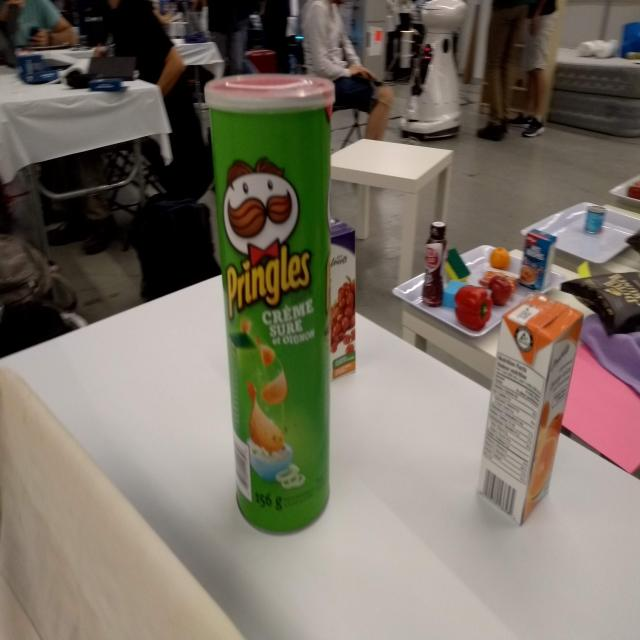cereal: (518, 227, 560, 292)
chocolate_drink: (421, 220, 452, 310)
orange: (489, 245, 511, 272)
orange_juice: (480, 289, 586, 530)
paprika: (454, 282, 493, 335)
pringles: (202, 66, 338, 538)
sausages: (582, 203, 610, 238)
scrubby: (444, 246, 472, 281)
